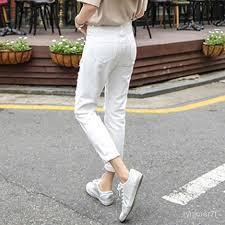pants: (74, 24, 137, 170)
